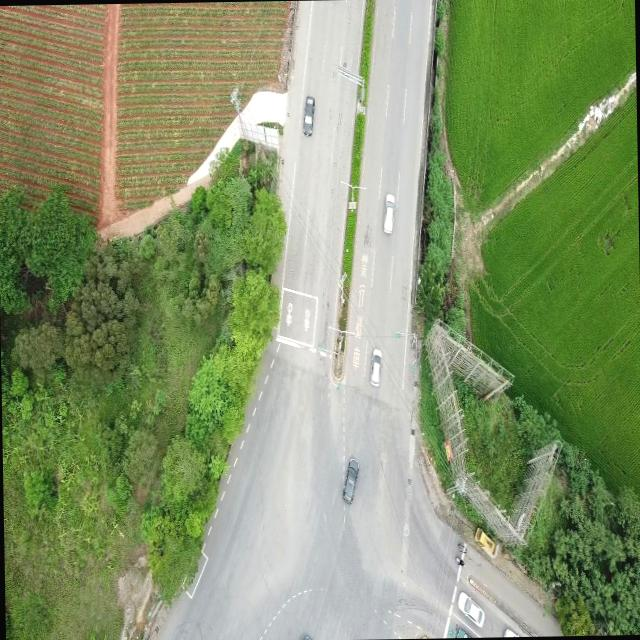bike: (454, 550, 464, 568), (457, 538, 467, 553)
car: (457, 590, 485, 626), (342, 458, 359, 503), (302, 94, 315, 135), (369, 348, 382, 386), (382, 193, 394, 233), (502, 626, 524, 636)
